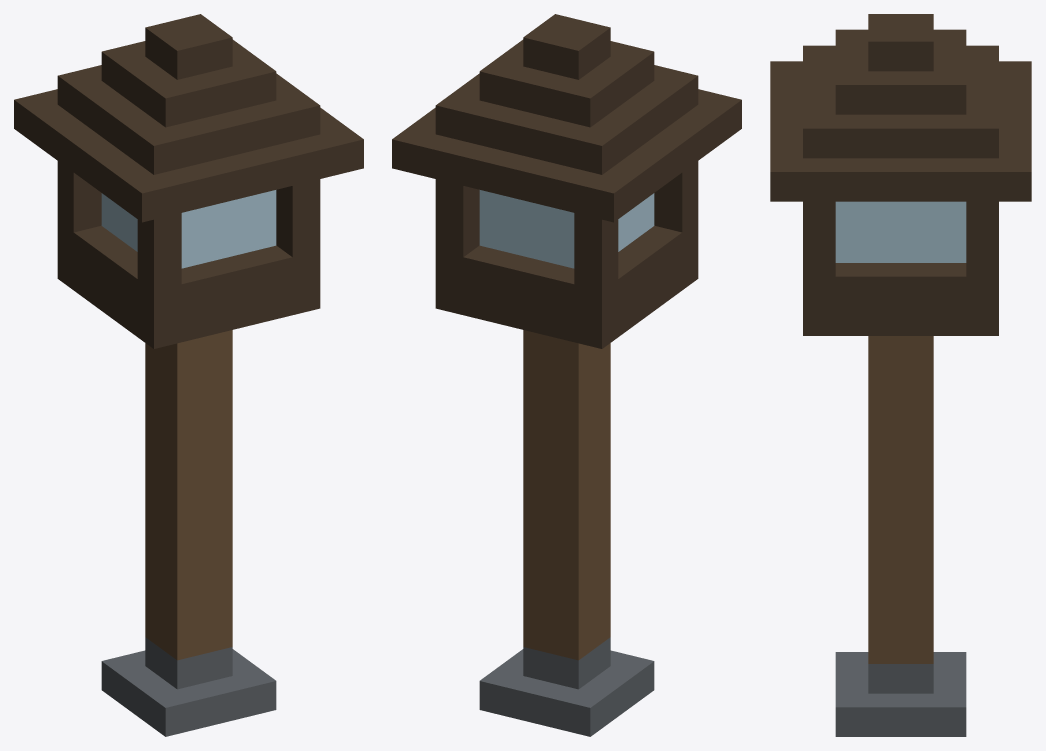
The model's file is hearthvale_prop_path_lantern.obj.
3 views of the same model, side by side, from view 1: azimuth 30°, elevation 25°; view 2: azimuth 150°, elevation 25°; view 3: azimuth 270°, elevation 25° (orthographic). The views are drawn at different scales.
Parts seen in each view (by area): view 1: palette_1, palette_2, palette_3, palette_5; view 2: palette_1, palette_2, palette_3, palette_5; view 3: palette_1, palette_2, palette_3, palette_5.
Boxes of the visible parts, x1=… form: palette_1: x1=14, y1=14, x2=363, y2=348; palette_2: x1=145, y1=330, x2=232, y2=660; palette_3: x1=101, y1=637, x2=276, y2=736; palette_5: x1=101, y1=190, x2=276, y2=268; palette_1: x1=392, y1=14, x2=741, y2=348; palette_2: x1=523, y1=330, x2=610, y2=660; palette_3: x1=479, y1=637, x2=654, y2=736; palette_5: x1=479, y1=190, x2=654, y2=268; palette_1: x1=770, y1=14, x2=1031, y2=335; palette_2: x1=868, y1=336, x2=933, y2=663; palette_3: x1=835, y1=652, x2=966, y2=736; palette_5: x1=835, y1=201, x2=966, y2=262.
Bounding box in the file's own units: 0.5 × 1.44 × 0.5.
